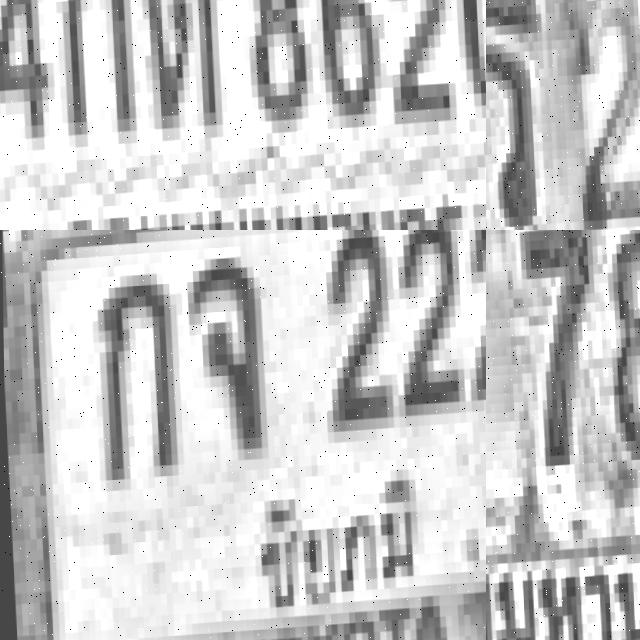license-plate: (0, 230, 486, 640), (0, 0, 486, 230), (486, 230, 640, 640), (486, 0, 640, 230)
